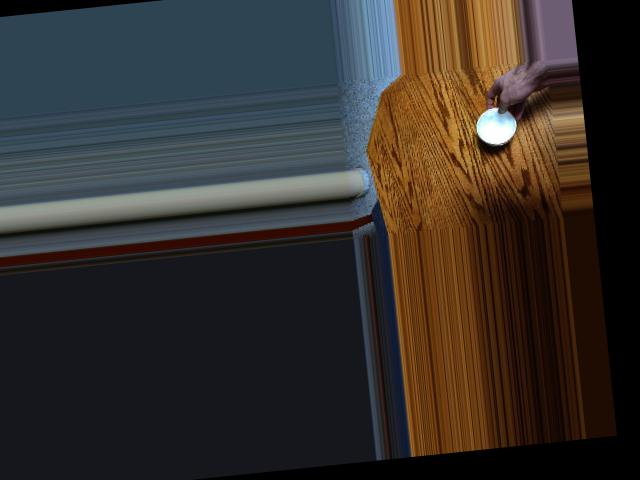cotage: (471, 97, 521, 146)
